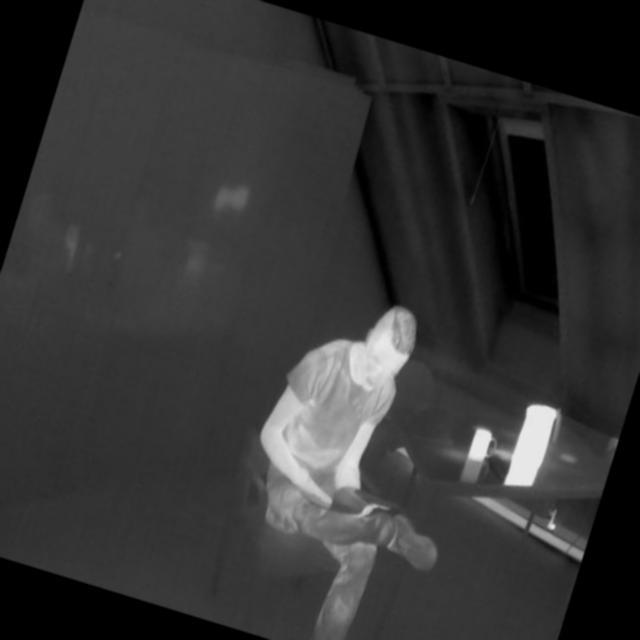person: (199, 270, 509, 640)
